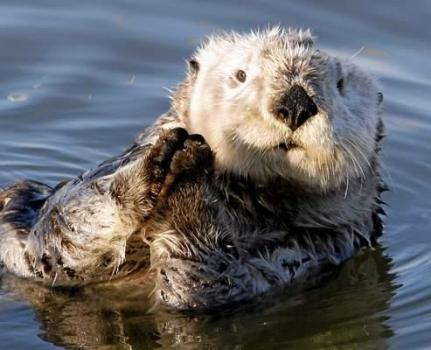otter: (32, 14, 401, 321)
